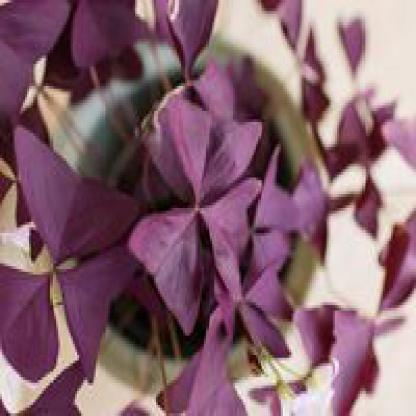Kupu-Kupu: (1, 131, 122, 373), (126, 112, 261, 303), (253, 165, 317, 339)
